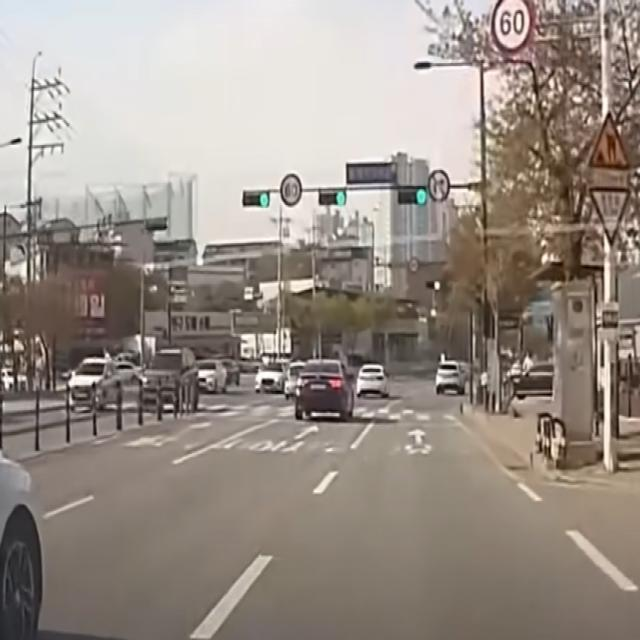Green Light: (258, 190, 270, 208), (415, 189, 426, 205), (336, 190, 346, 206)
